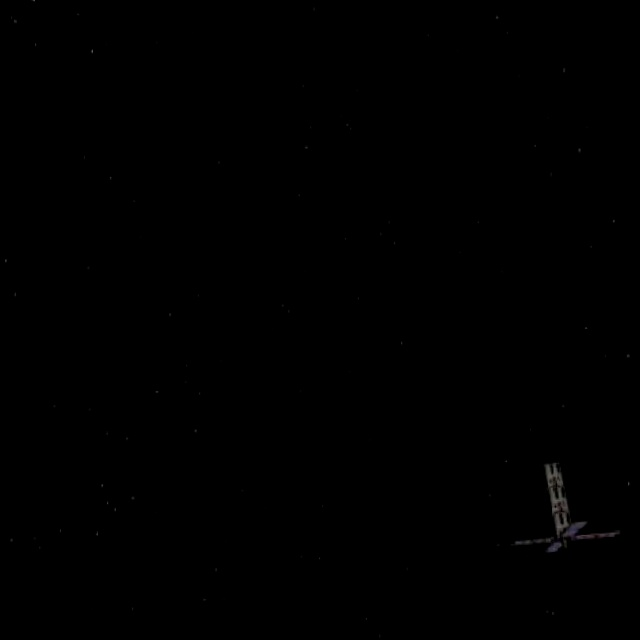medium_debris: (501, 454, 624, 561)
